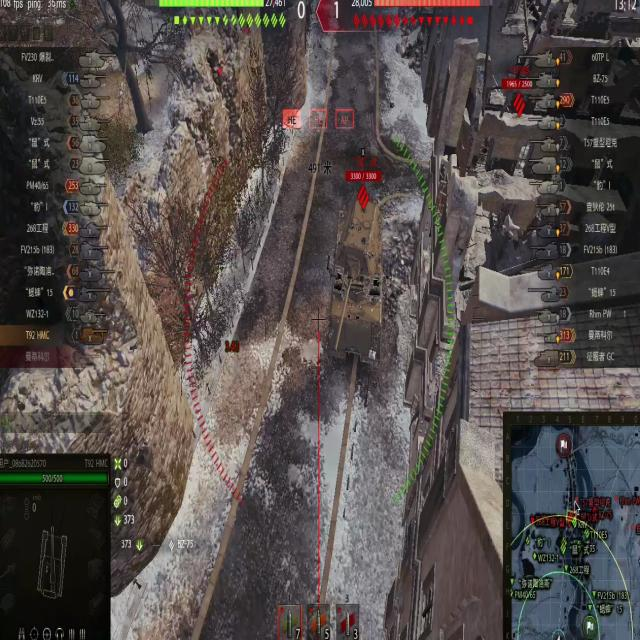tank: (329, 163, 384, 380)
